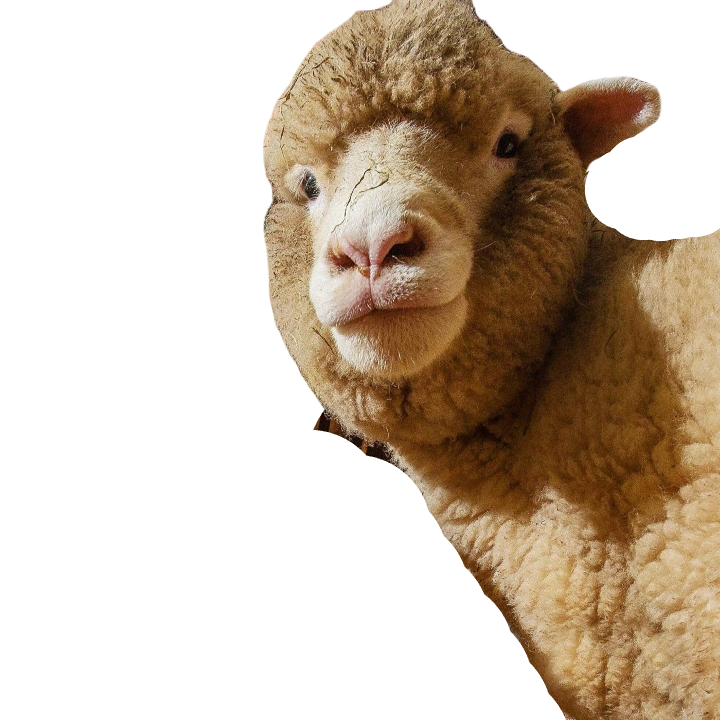Sheep: (259, 0, 719, 719)
